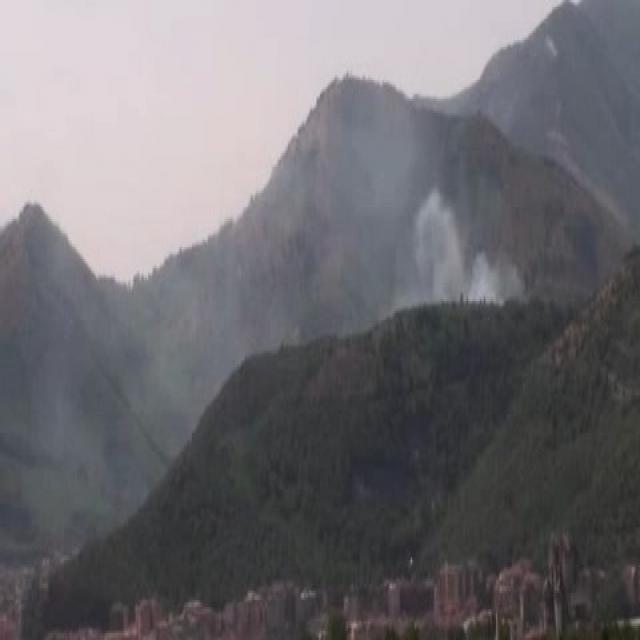smoke: (309, 115, 512, 303)
